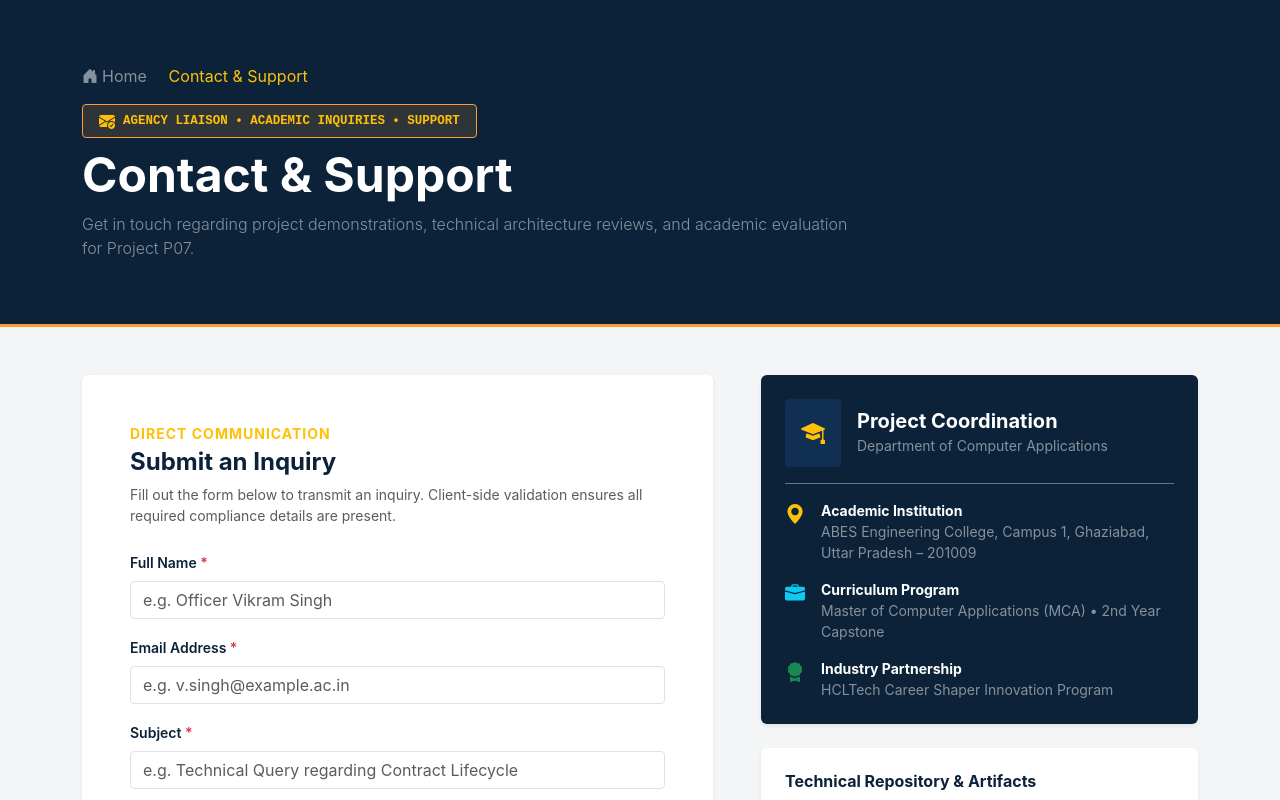
Test: Phase 2 — Public Website and Branding Tests › Contact Page Form Validation › submits successfully in demonstration mode when all inputs are valid
Type "Major R. Sharma" into the field with placeholder "e.g. Officer Vikram Singh" at (398, 600), box top-left (130, 581), bottom-right (665, 619)
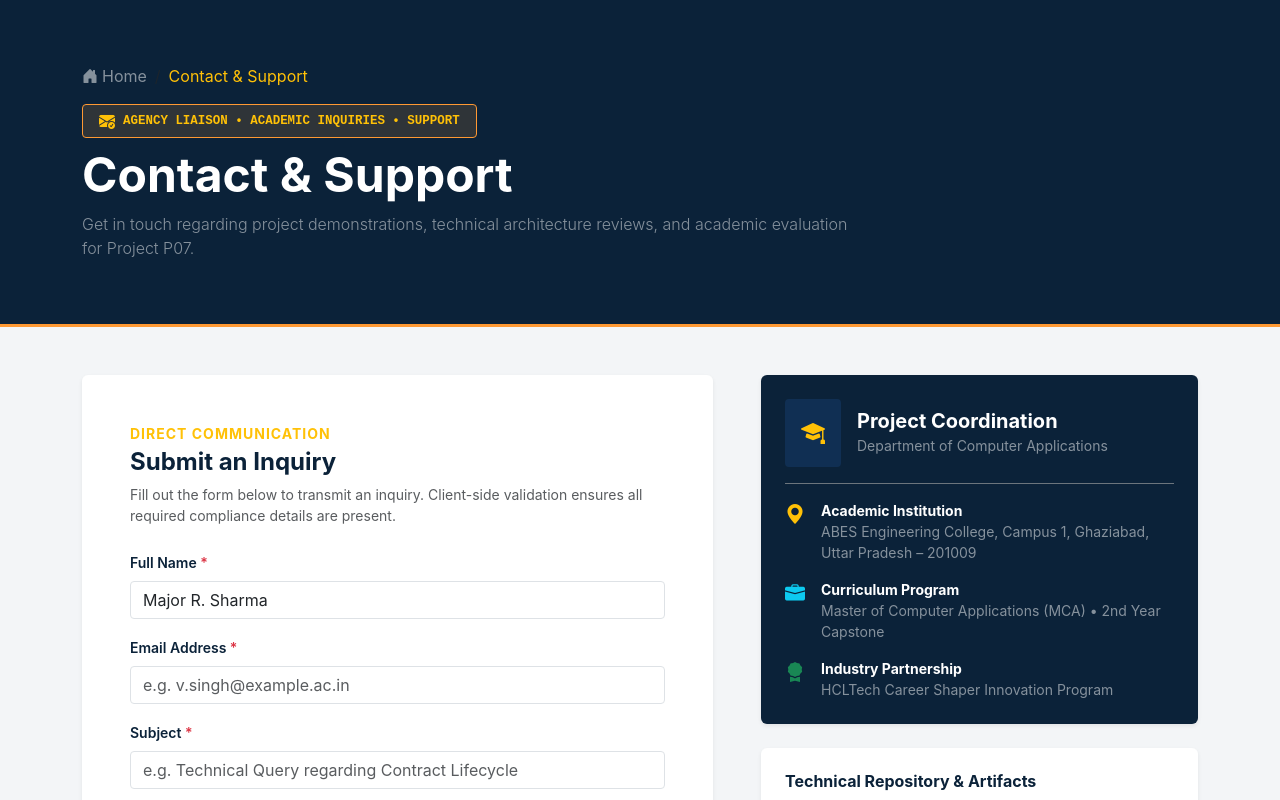
Type "r.sharma@defence.ac.in" into the field with placeholder "e.g. v.singh@example.ac.in" at (398, 685), box top-left (130, 666), bottom-right (665, 704)
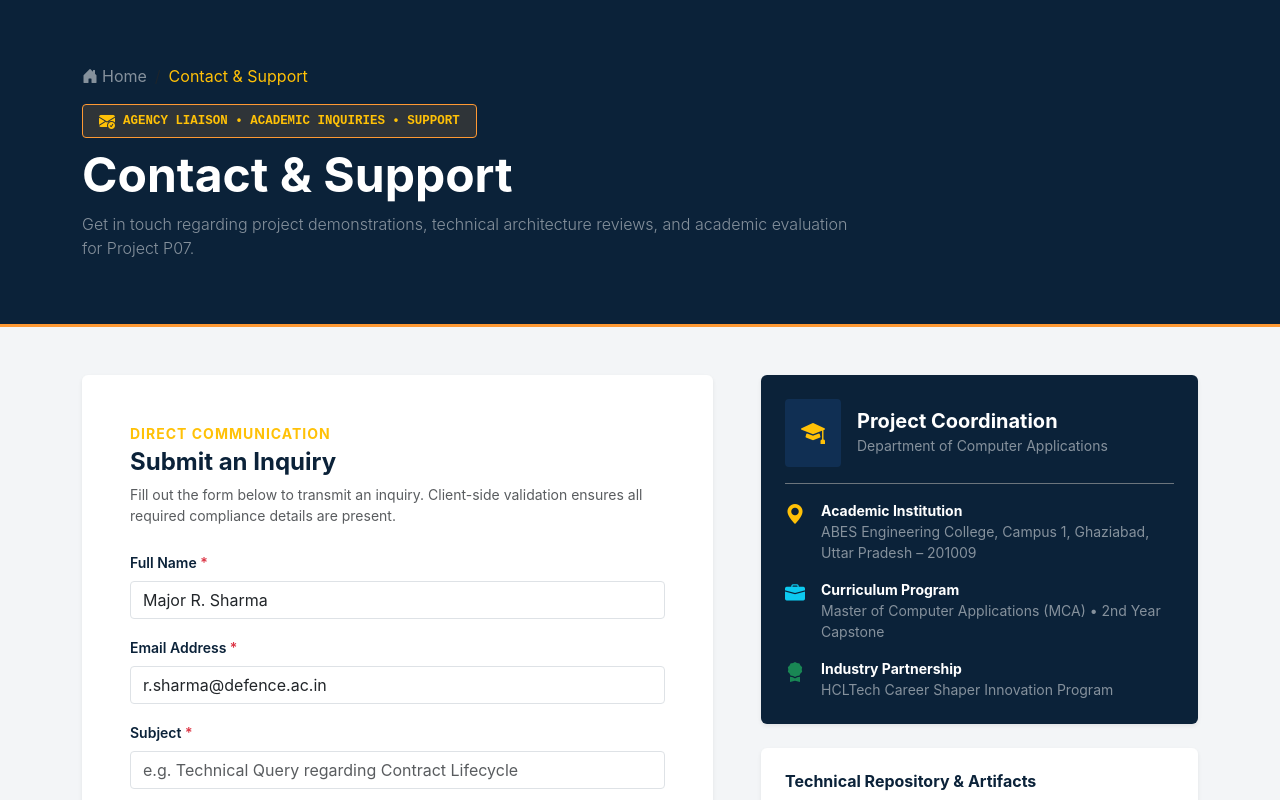
Type "Contract Lifecycle Assessment" into the field with placeholder "e.g. Technical Query regarding Contract Lifecycle" at (398, 770), box top-left (130, 751), bottom-right (665, 789)
(page scrolled)
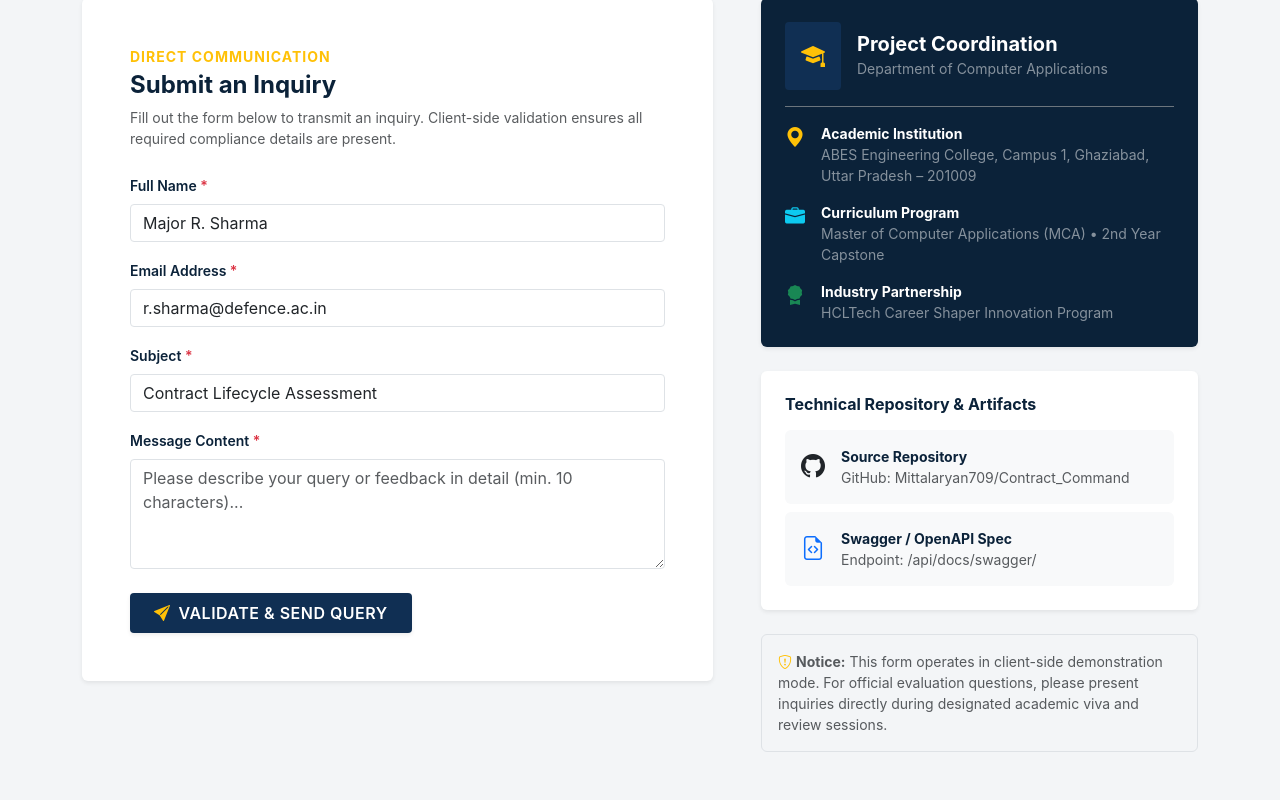
Replace the text in the text box with placeholder "Please describe your query" with "Inquiring regarding the DAP 2020 compliance evaluation flow." at (398, 514), box top-left (130, 459), bottom-right (665, 569)
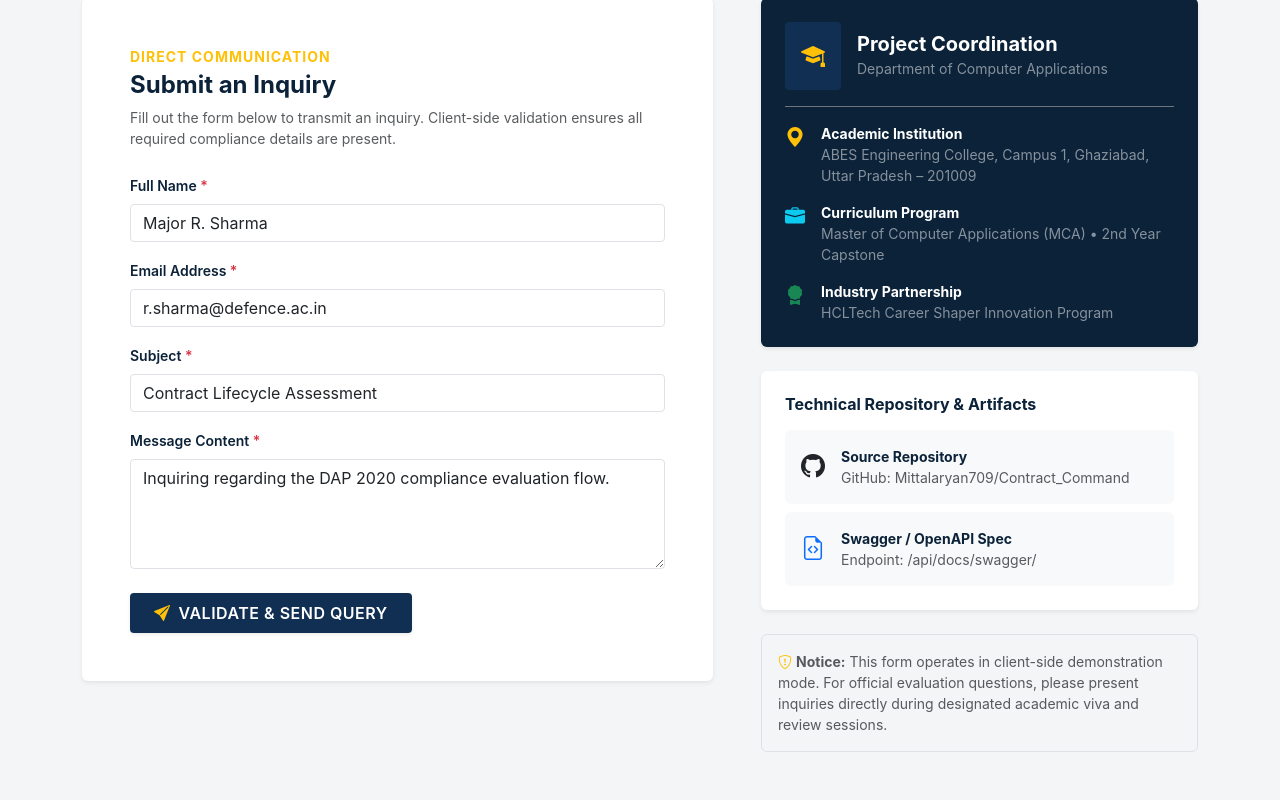
Click the button "Validate & Send Query" at (271, 613), box top-left (130, 593), bottom-right (412, 633)
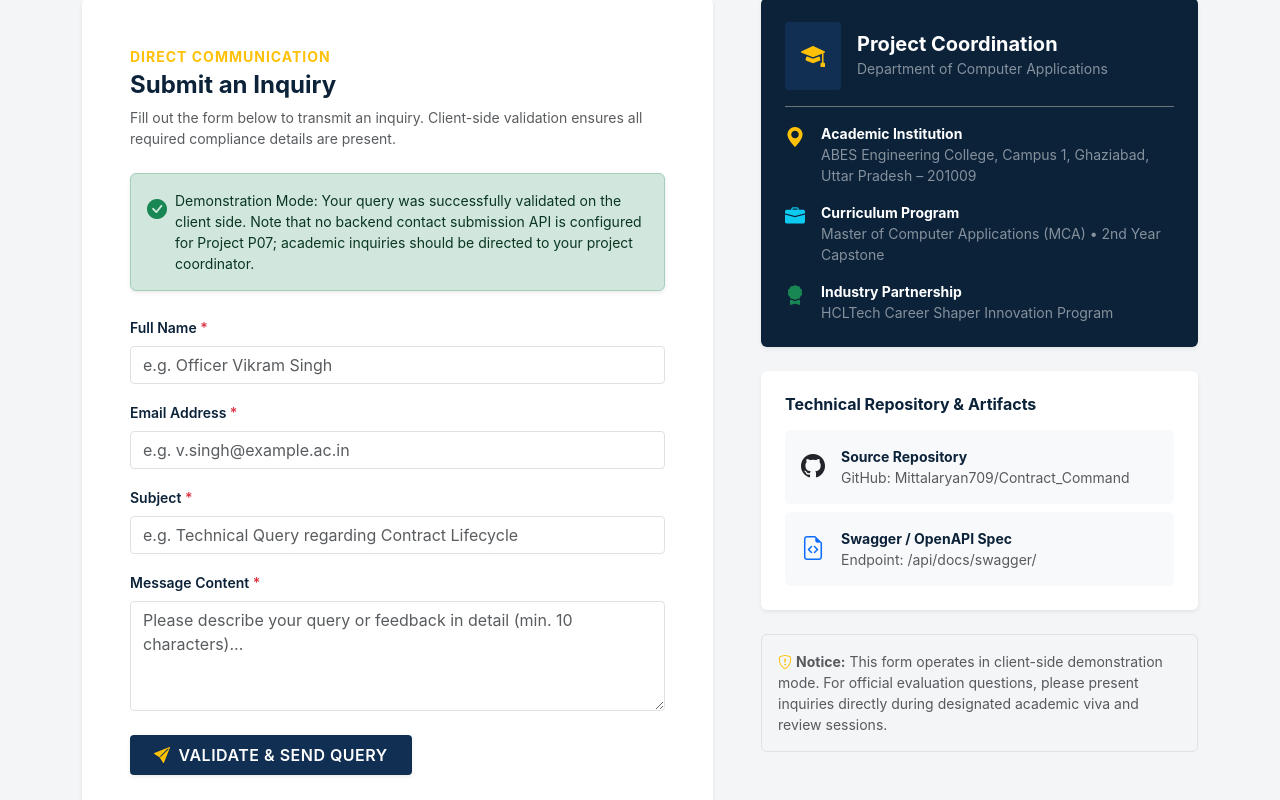
Expected: the text "Demonstration Mode: Your query was successfully validated" is shown, top-left (175, 192), bottom-right (642, 272)
